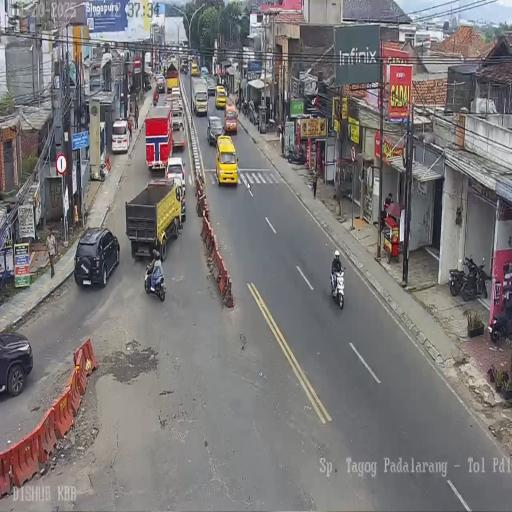3: (126, 177, 184, 264), (144, 107, 173, 173), (170, 104, 185, 150), (192, 78, 208, 116), (165, 61, 179, 93), (144, 52, 151, 74), (180, 56, 188, 74)
car: (72, 228, 118, 288), (0, 330, 33, 399), (215, 135, 238, 187), (165, 156, 185, 189), (112, 119, 130, 154), (206, 114, 224, 145), (223, 103, 238, 135), (170, 87, 182, 111), (215, 84, 226, 108), (156, 74, 166, 93), (207, 78, 216, 96), (191, 62, 198, 75), (201, 66, 208, 78)
truck: (449, 254, 473, 297), (488, 302, 510, 344), (144, 260, 166, 301), (330, 266, 345, 309), (284, 143, 306, 165), (242, 98, 248, 117), (254, 112, 260, 129), (276, 123, 282, 139), (153, 93, 158, 107)
